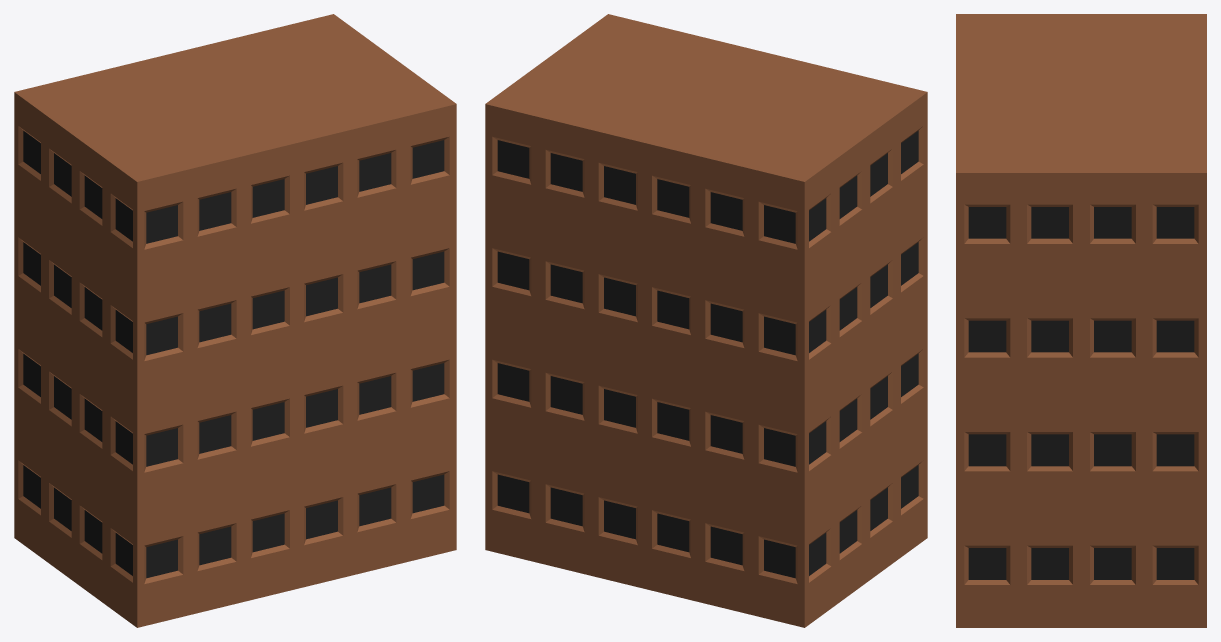
The model's file is Building2.fbx.
The picture shows the model from 3 angles, left to right: view 1: azimuth 30°, elevation 25°; view 2: azimuth 150°, elevation 25°; view 3: azimuth 270°, elevation 25°; orthographic projection. The views are drawn at different scales.
Visible parts, largest first — view 1: Building2; view 2: Building2; view 3: Building2.
Part boxes in pixels (x1,y1,x2,y2): Building2: (14,14,456,627); Building2: (485,14,927,627); Building2: (956,14,1206,627).
Size of the model in its own units: 600 by 800 by 400.
